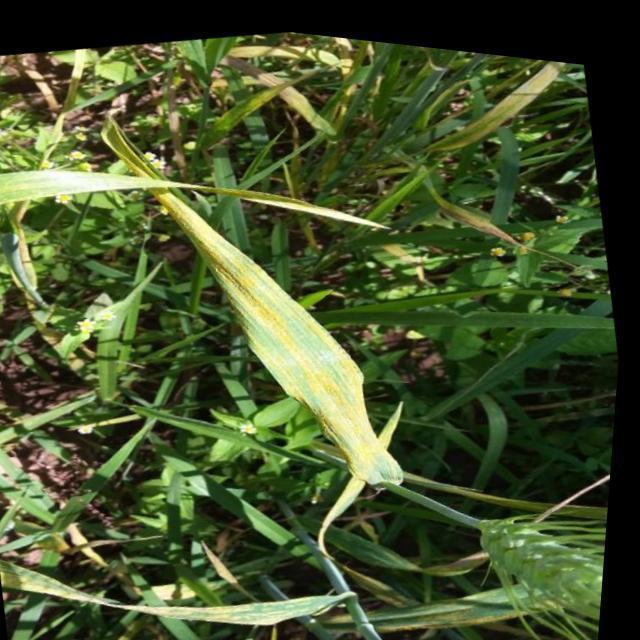Yellow_Rust: (0, 168, 413, 515), (119, 585, 365, 621)
